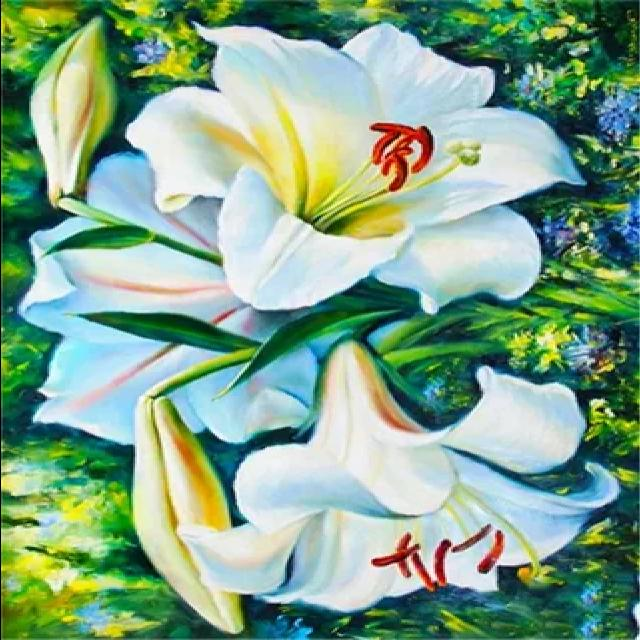lily: (120, 9, 590, 326), (178, 364, 640, 632)
